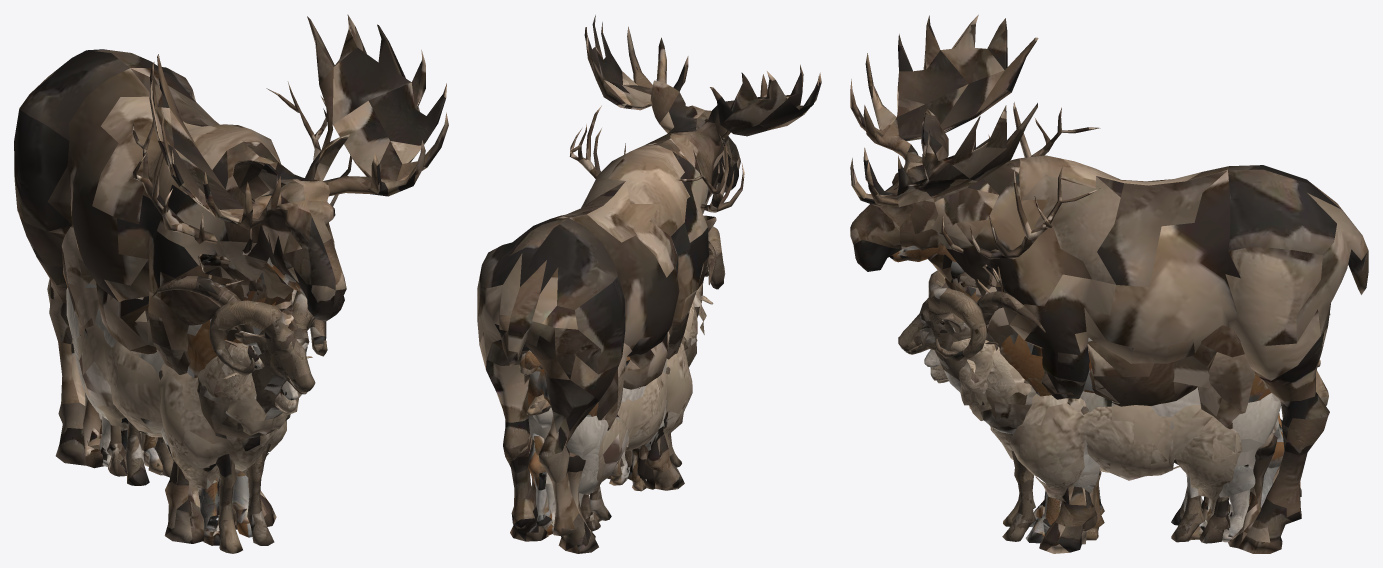
The model's file is animals.glb.
3 views of the same model, side by side, from view 1: azimuth 30°, elevation 25°; view 2: azimuth 150°, elevation 25°; view 3: azimuth 270°, elevation 25° (orthographic). The views are drawn at different scales.
Parts seen in each view (by area): view 1: animal_quebec, animal_nz, animal_utah, animal_colorado, animal_chile, animal_swiss, animal_bc, animal_vermont; view 2: animal_quebec, animal_colorado, animal_nz, animal_bc, animal_chile, animal_utah, animal_swiss, animal_vermont; view 3: animal_quebec, animal_nz, animal_colorado, animal_utah, animal_bc, animal_chile, animal_swiss, animal_vermont.
Part boxes in pixels (bbox=[...]): animal_quebec: bbox=[14, 14, 448, 543]; animal_nz: bbox=[77, 323, 312, 529]; animal_utah: bbox=[125, 290, 327, 553]; animal_colorado: bbox=[61, 81, 352, 495]; animal_chile: bbox=[63, 229, 305, 545]; animal_swiss: bbox=[107, 276, 296, 529]; animal_bc: bbox=[66, 287, 298, 508]; animal_vermont: bbox=[125, 254, 243, 483]; animal_quebec: bbox=[477, 15, 821, 553]; animal_colorado: bbox=[530, 105, 744, 538]; animal_nz: bbox=[544, 283, 713, 495]; animal_bc: bbox=[528, 358, 666, 526]; animal_chile: bbox=[519, 162, 717, 535]; animal_utah: bbox=[526, 226, 725, 520]; animal_swiss: bbox=[580, 241, 716, 531]; animal_vermont: bbox=[593, 447, 646, 521]; animal_quebec: bbox=[850, 14, 1368, 553]; animal_nz: bbox=[930, 338, 1242, 517]; animal_colorado: bbox=[927, 102, 1277, 548]; animal_utah: bbox=[898, 270, 1320, 542]; animal_bc: bbox=[924, 323, 1280, 542]; animal_chile: bbox=[889, 242, 1330, 543]; animal_swiss: bbox=[976, 291, 1230, 543]; animal_vermont: bbox=[977, 266, 1210, 540].
Size of the model in its own units: 1.46 by 2.6 by 2.6.
8 materials, 8 textured.
